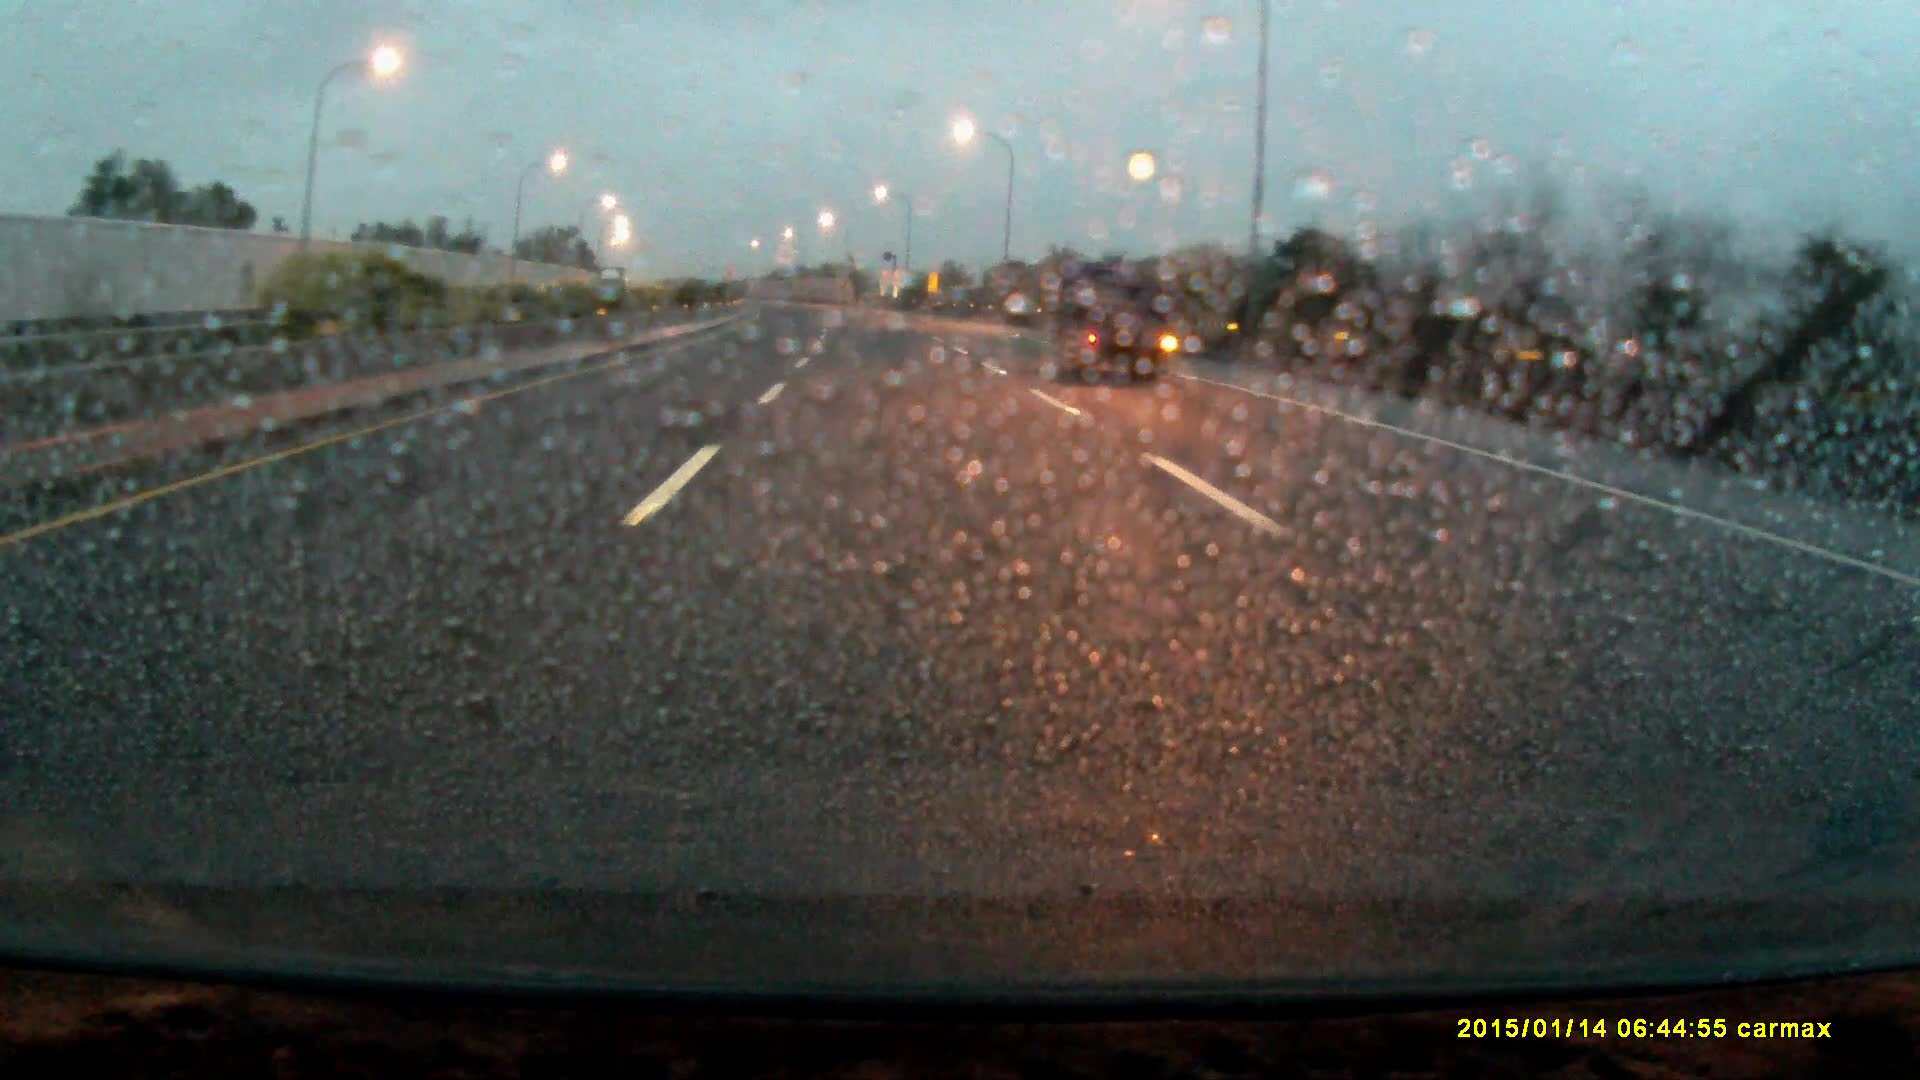vehicle: (1048, 261, 1179, 386), (596, 266, 626, 301)
